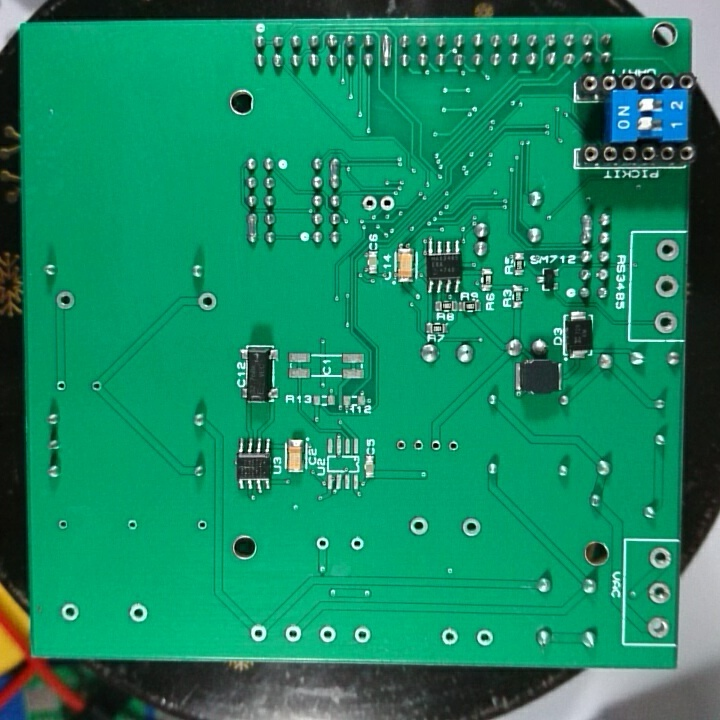F: (645, 542, 676, 571), (652, 308, 679, 339), (654, 235, 679, 268), (653, 272, 678, 301), (647, 580, 672, 609), (645, 614, 670, 640), (196, 289, 218, 315), (52, 288, 76, 311), (475, 626, 498, 649), (407, 515, 430, 538), (461, 516, 483, 540), (56, 602, 81, 623), (282, 623, 305, 645), (126, 600, 147, 624), (350, 623, 372, 645), (359, 192, 378, 216), (317, 623, 338, 644), (247, 622, 267, 643), (347, 535, 367, 555), (440, 626, 459, 646), (428, 436, 444, 458), (314, 534, 331, 554), (378, 192, 394, 213), (193, 518, 211, 535), (410, 437, 427, 455), (445, 438, 463, 455), (88, 378, 106, 395), (394, 437, 408, 455), (54, 378, 70, 393), (125, 516, 139, 533), (57, 516, 69, 534)
P: (326, 153, 345, 190), (380, 32, 396, 71), (246, 212, 261, 248), (580, 208, 593, 248)
